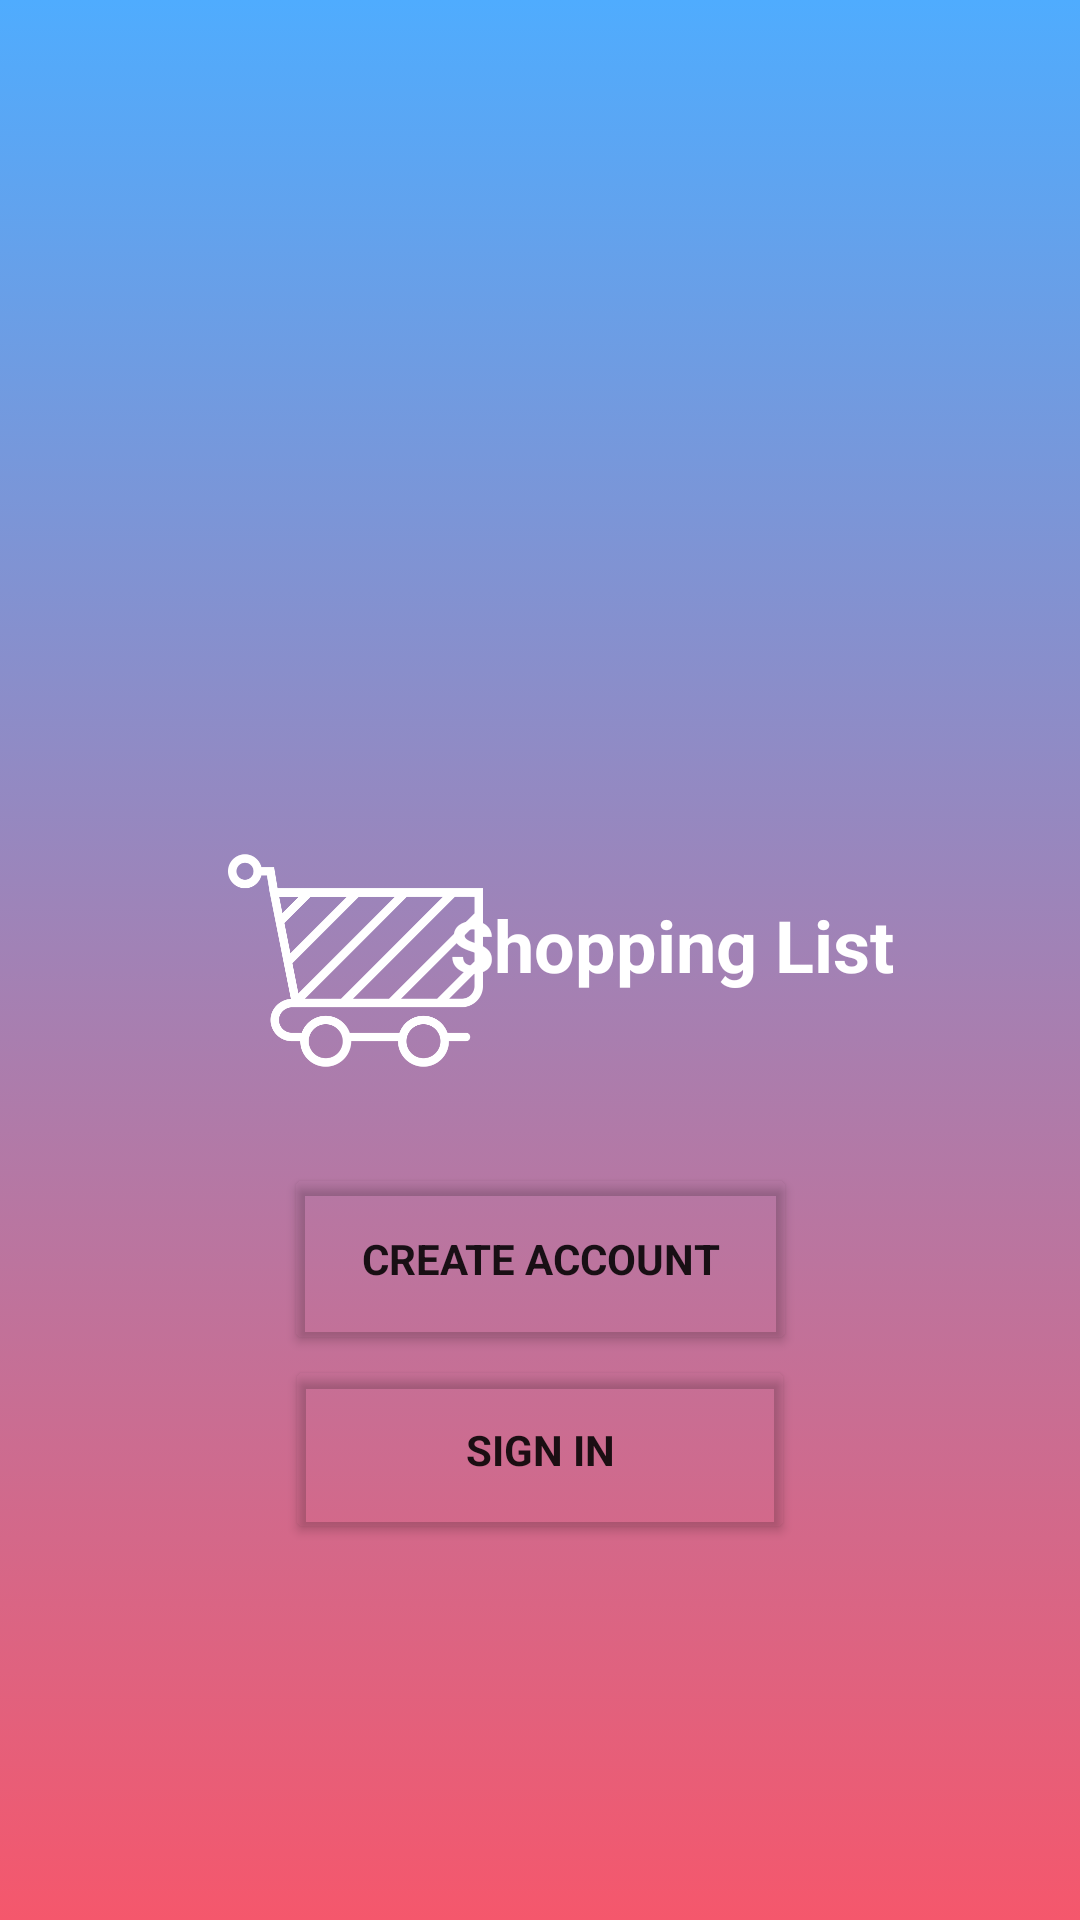

Named icons in this screenshot (1080w x 1920h) and their bounding boxes, (x1, y1, x2, y2):
cart: (228, 833, 483, 1067)
